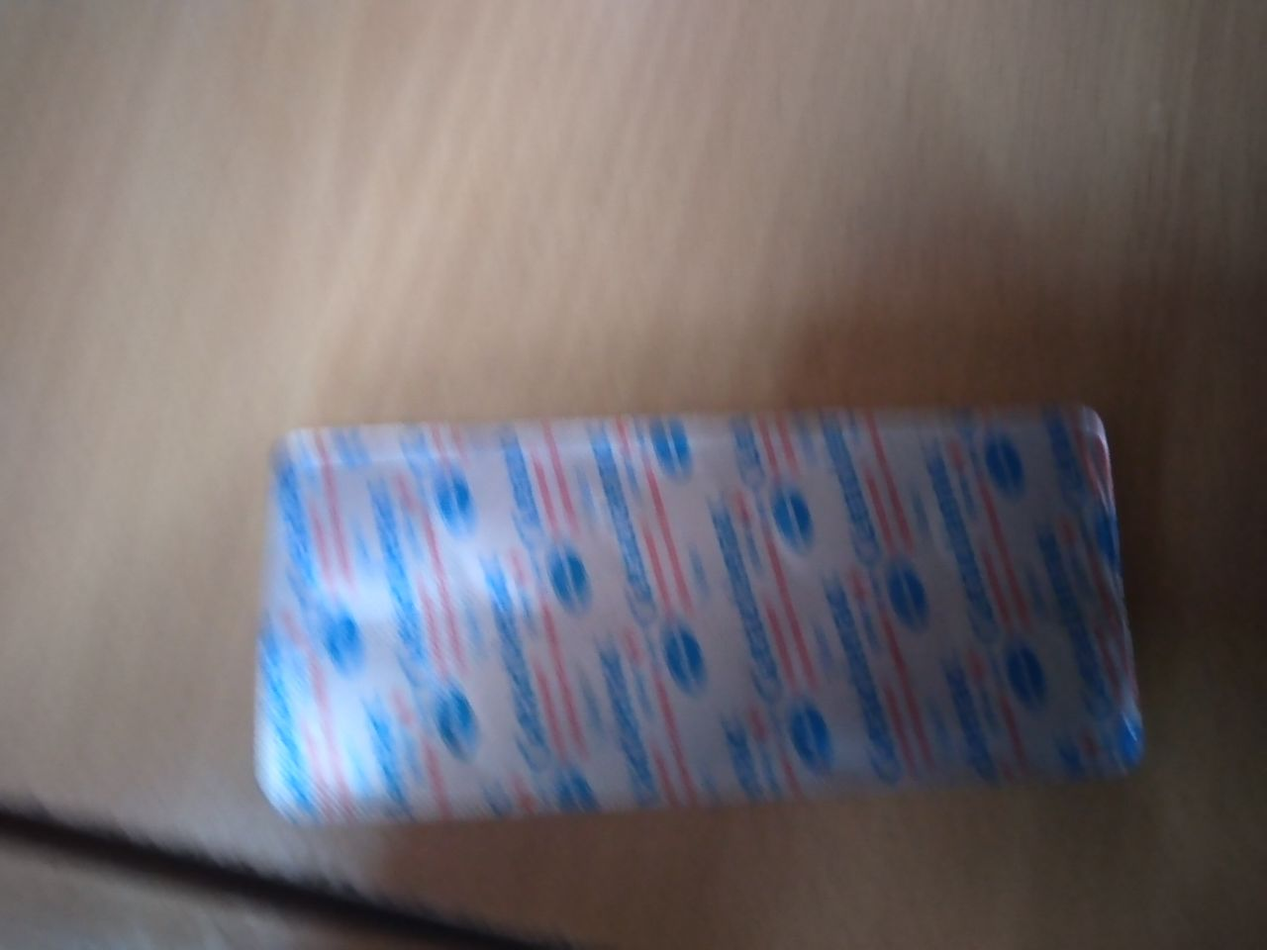Medicine: (243, 393, 1161, 826)
